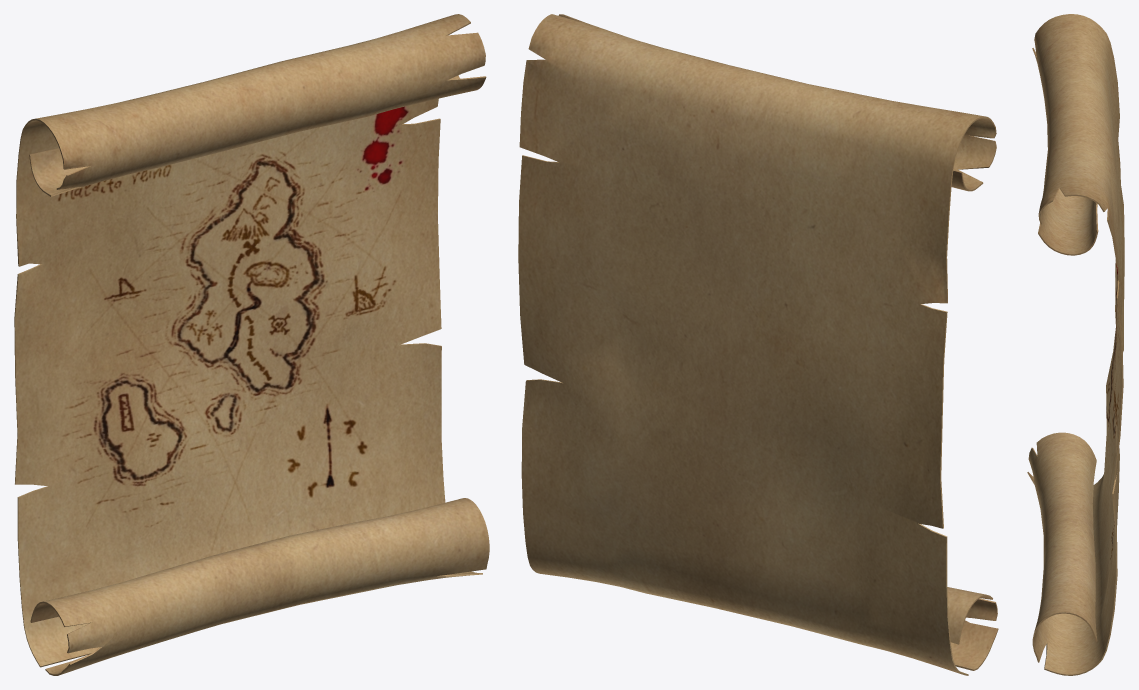
The model's file is svitak.glb.
The picture shows the model from 3 angles, left to right: view 1: azimuth 30°, elevation 25°; view 2: azimuth 150°, elevation 25°; view 3: azimuth 270°, elevation 25°; orthographic projection. The views are drawn at different scales.
Parts seen in each view (by area): view 1: 14059_Pirate_Treasure_map_Scroll_v1_L1; view 2: 14059_Pirate_Treasure_map_Scroll_v1_L1; view 3: 14059_Pirate_Treasure_map_Scroll_v1_L1.
Part boxes in pixels (box(x1,y1,x2,y2)): 14059_Pirate_Treasure_map_Scroll_v1_L1: box(14, 14, 489, 675); 14059_Pirate_Treasure_map_Scroll_v1_L1: box(518, 14, 998, 675); 14059_Pirate_Treasure_map_Scroll_v1_L1: box(1027, 14, 1124, 675).
Size of the model in its own units: 11.88 by 14.75 by 2.71.
Materials: 1 (1 with a texture image).
